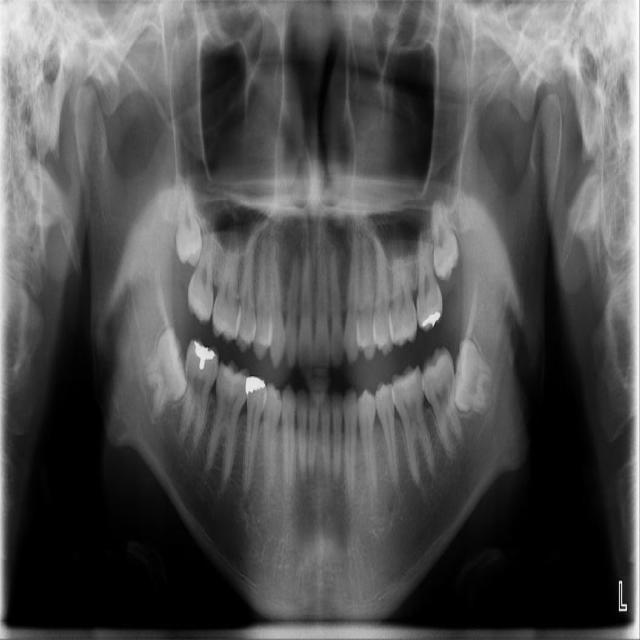Filling: (191, 339, 216, 373), (223, 364, 244, 395), (420, 310, 440, 329), (245, 375, 264, 393)
impacted tooth: (136, 326, 188, 418), (453, 340, 498, 417), (171, 177, 203, 265), (430, 200, 459, 279)
